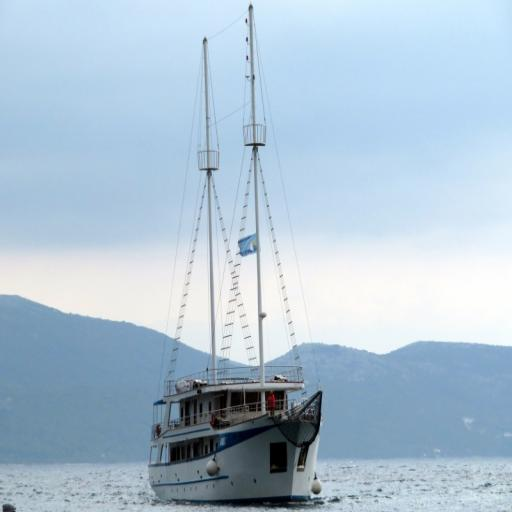cruises: (145, 353, 328, 508)
